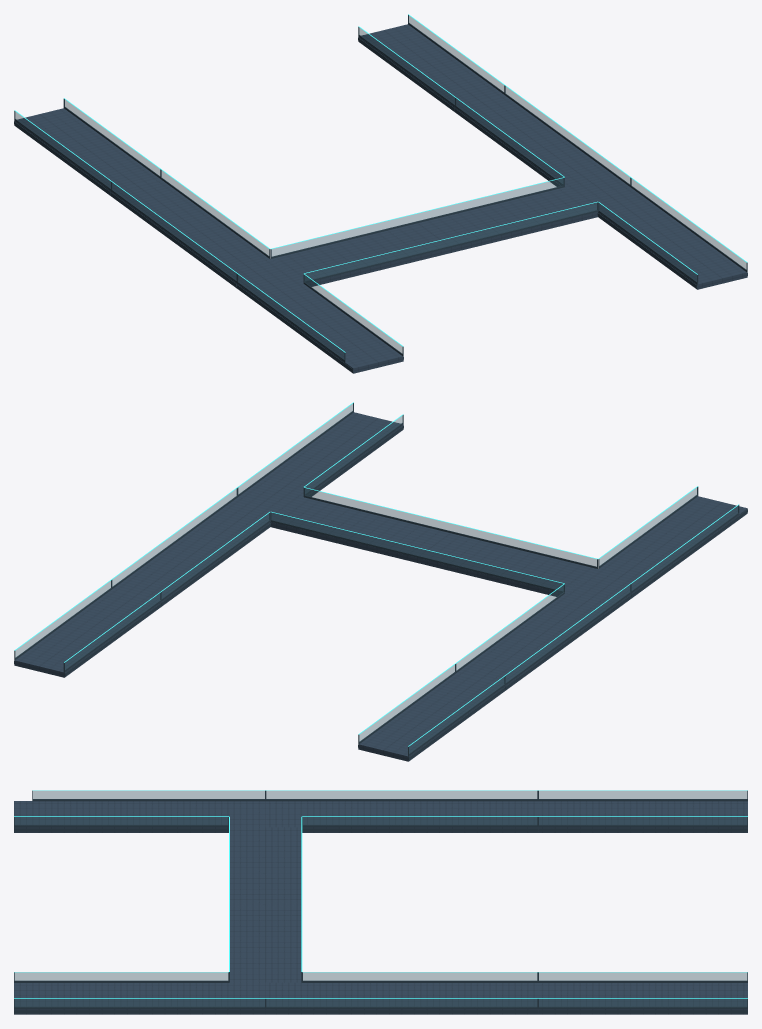
The model's file is terrace-portal-2.glb.
3 renders of one model, top to bottom at view 1: azimuth 30°, elevation 25°; view 2: azimuth 150°, elevation 25°; view 3: azimuth 270°, elevation 25°, orthographic. The views are drawn at different scales.
Parts seen in each view (by area): view 1: terrace-portal-2; view 2: terrace-portal-2; view 3: terrace-portal-2.
Part boxes in pixels (x1,y1,x2,y2): terrace-portal-2: [14, 14, 747, 373]; terrace-portal-2: [14, 402, 747, 761]; terrace-portal-2: [14, 790, 747, 1014].
Size of the model in its own units: 47.1 by 1.77 by 70.
Materials: 5 (1 with a texture image).
